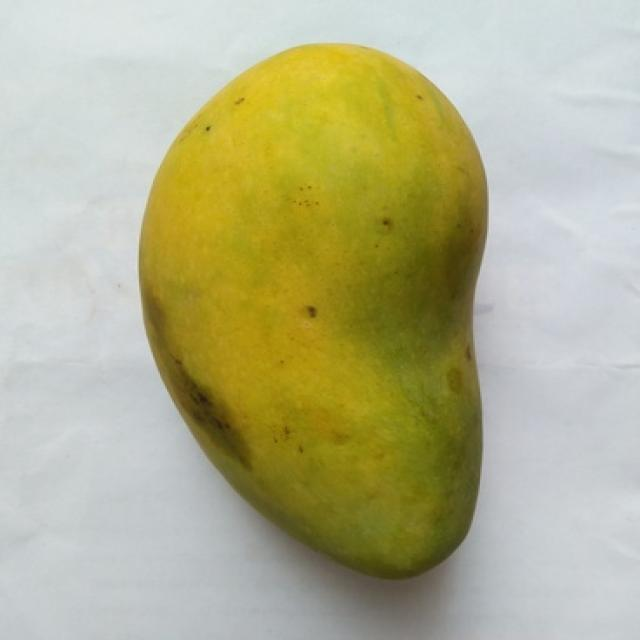Mango: (141, 44, 485, 576)
